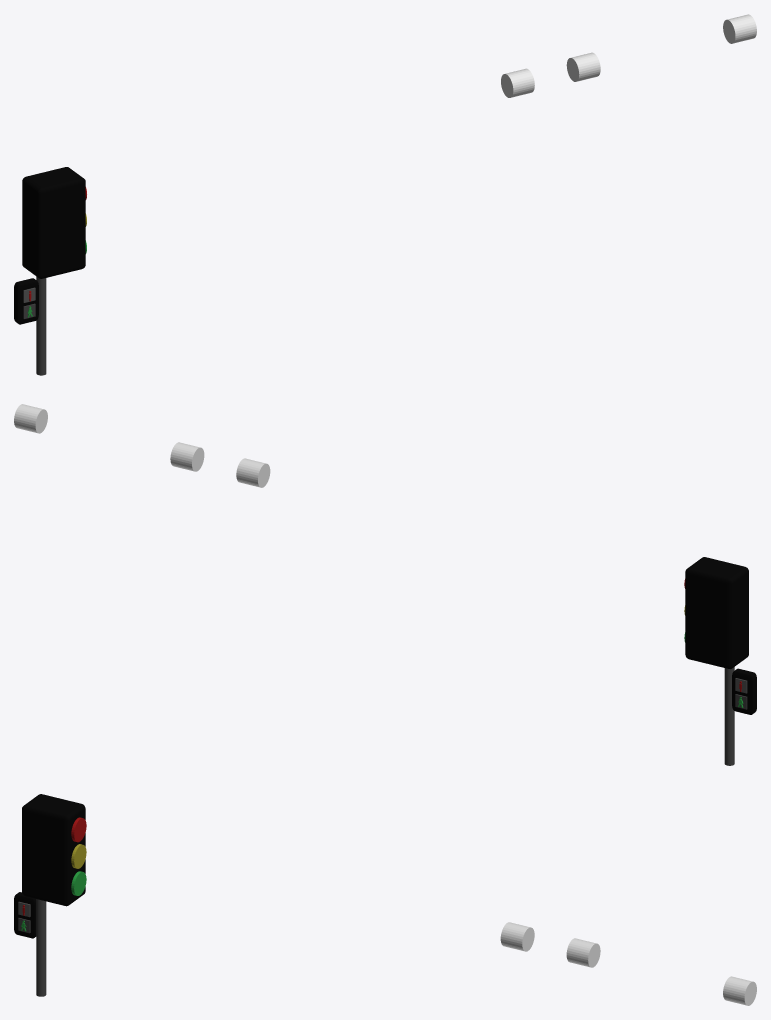
File: singouki.blend.fbx
3 renders of one model, top to bottom at view 1: azimuth 30°, elevation 25°; view 2: azimuth 150°, elevation 25°; view 3: azimuth 330°, elevation 25°, orthographic.
Visible parts, largest first — view 1: Cube, 円柱.006, 円柱.003, 円柱.001, 円柱.002, 立方体; view 2: Cube, 円柱.006, 円柱.002, 円柱.003, 円柱.001, 立方体; view 3: Cube, 円柱.006, 円柱.002, 円柱.003, 円柱.001, 立方体.
Boxes of the visible parts, <box> form: Cube: <box>22,167,85,278</box>; 円柱.006: <box>36,276,46,375</box>; 円柱.003: <box>501,68,534,97</box>; 円柱.001: <box>723,14,756,43</box>; 円柱.002: <box>566,52,600,81</box>; 立方体: <box>14,278,38,324</box>; Cube: <box>685,557,748,668</box>; 円柱.006: <box>724,667,734,765</box>; 円柱.002: <box>170,442,204,471</box>; 円柱.003: <box>236,458,270,487</box>; 円柱.001: <box>14,404,47,433</box>; 立方体: <box>732,668,756,714</box>; Cube: <box>22,794,85,906</box>; 円柱.006: <box>36,899,46,996</box>; 円柱.002: <box>566,938,600,967</box>; 円柱.003: <box>500,922,534,951</box>; 円柱.001: <box>723,976,756,1005</box>; 立方体: <box>14,892,36,938</box>.
Size of the model in its own units: 2899 by 727 by 125.
